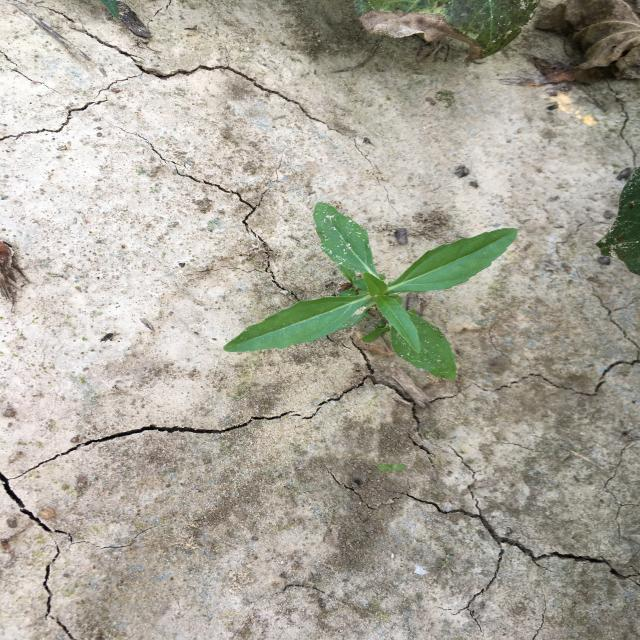Eclipta: (222, 200, 520, 382)
